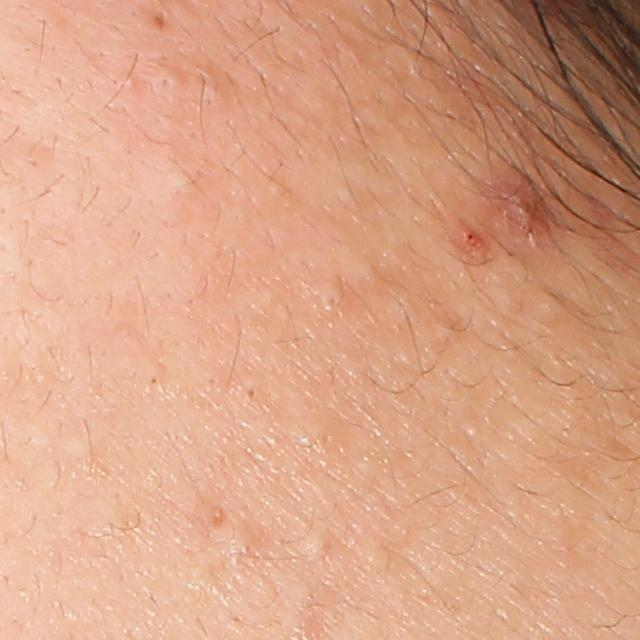comedo: (190, 69, 231, 120), (312, 277, 348, 314), (295, 532, 333, 564), (137, 365, 166, 397)
papule: (494, 178, 553, 243), (459, 225, 490, 255)
